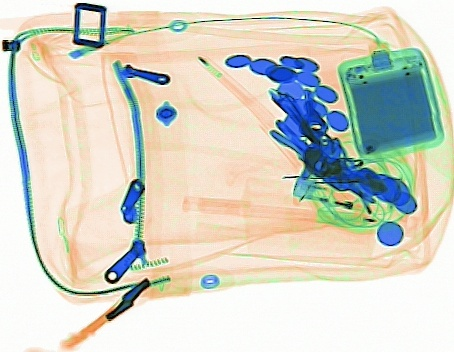lighter: (291, 175, 396, 225)
